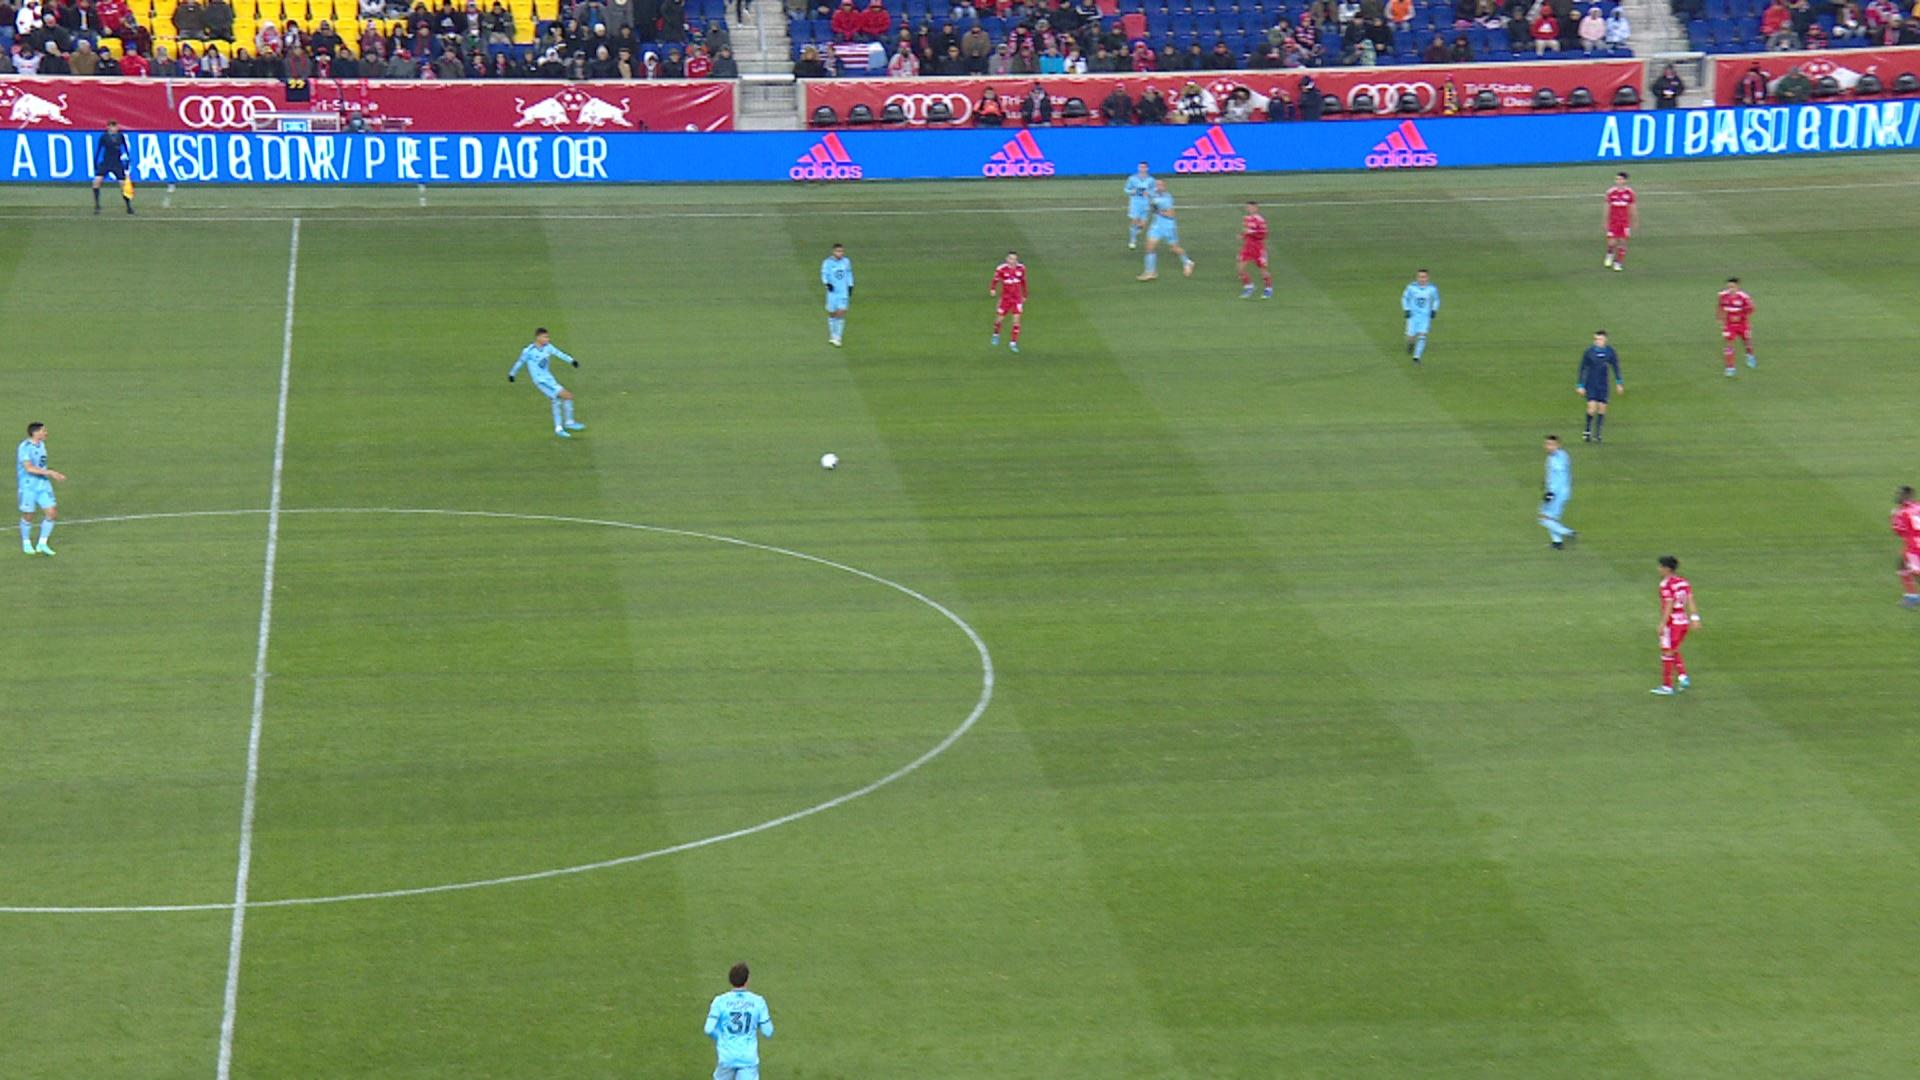football: (820, 451, 839, 469)
